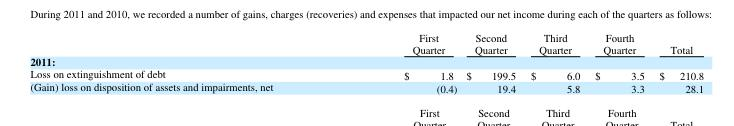table: (29, 29, 703, 94)
table column: (29, 29, 337, 94), (337, 29, 461, 94), (586, 29, 651, 94), (522, 29, 586, 94), (461, 29, 522, 94), (651, 29, 703, 94)
table column header: (29, 29, 703, 54)
table projected row header: (29, 54, 703, 67)
table row: (29, 29, 703, 54), (29, 80, 703, 94), (29, 54, 703, 67), (29, 67, 703, 80)
